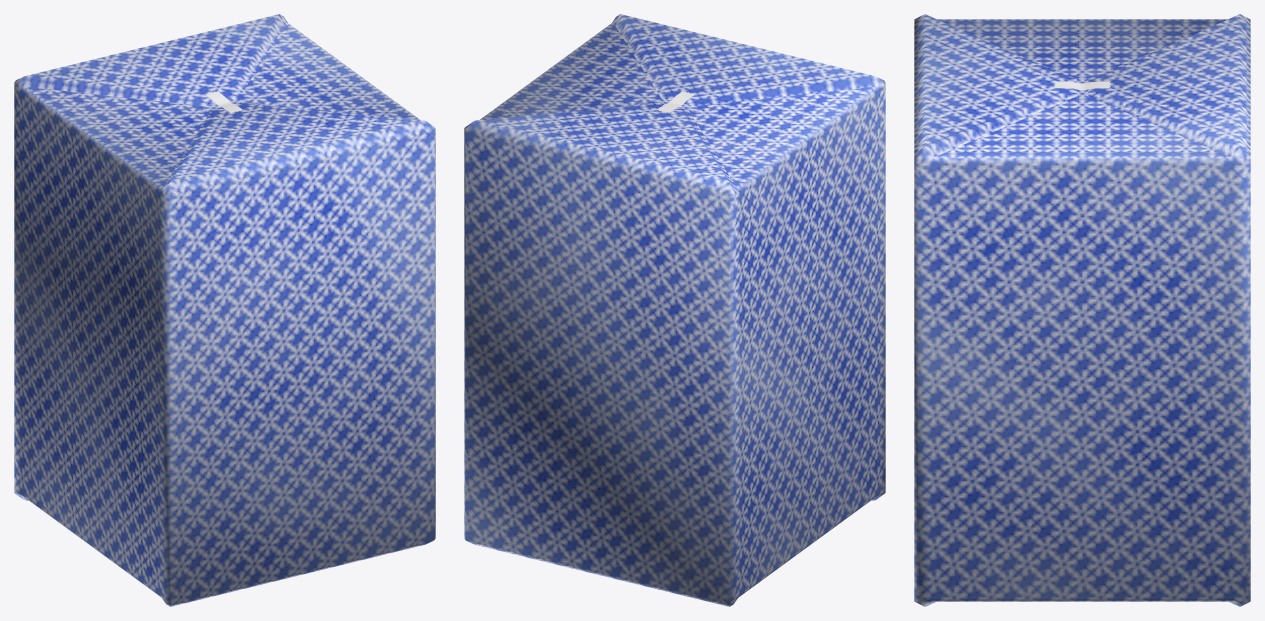
3 views of the same model, side by side, from view 1: azimuth 30°, elevation 25°; view 2: azimuth 150°, elevation 25°; view 3: azimuth 270°, elevation 25° (orthographic). The views are drawn at different scales.
Parts seen in each view (by area): view 1: smMAT0110018; view 2: smMAT0110018; view 3: smMAT0110018.
Part boxes in pixels (bbox=[...]): smMAT0110018: bbox=[14, 14, 435, 606]; smMAT0110018: bbox=[464, 14, 885, 606]; smMAT0110018: bbox=[914, 14, 1250, 606].
Size of the model in its own units: 59.75 by 89.76 by 59.75.
Materials: 1 (1 with a texture image).
